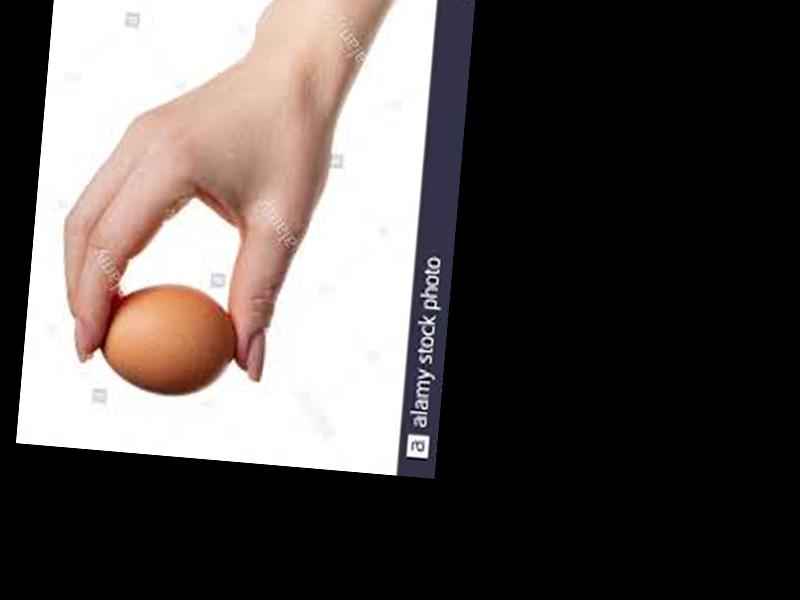Eggs: (97, 276, 238, 399)
